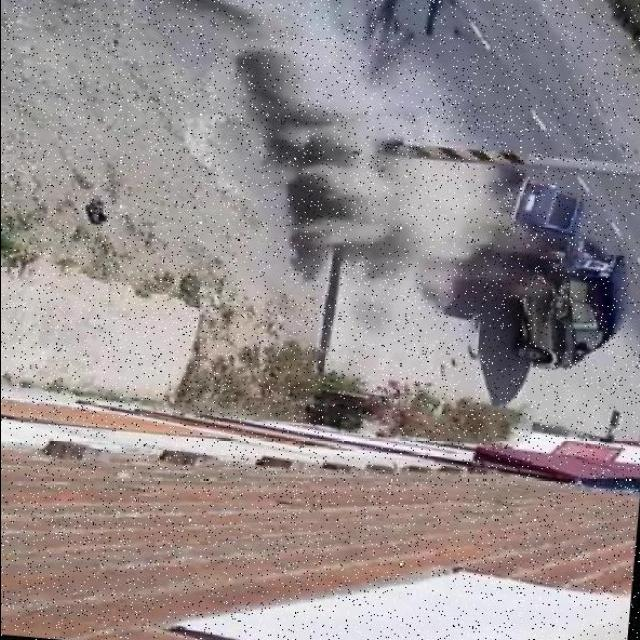accident: (482, 206, 628, 341)
